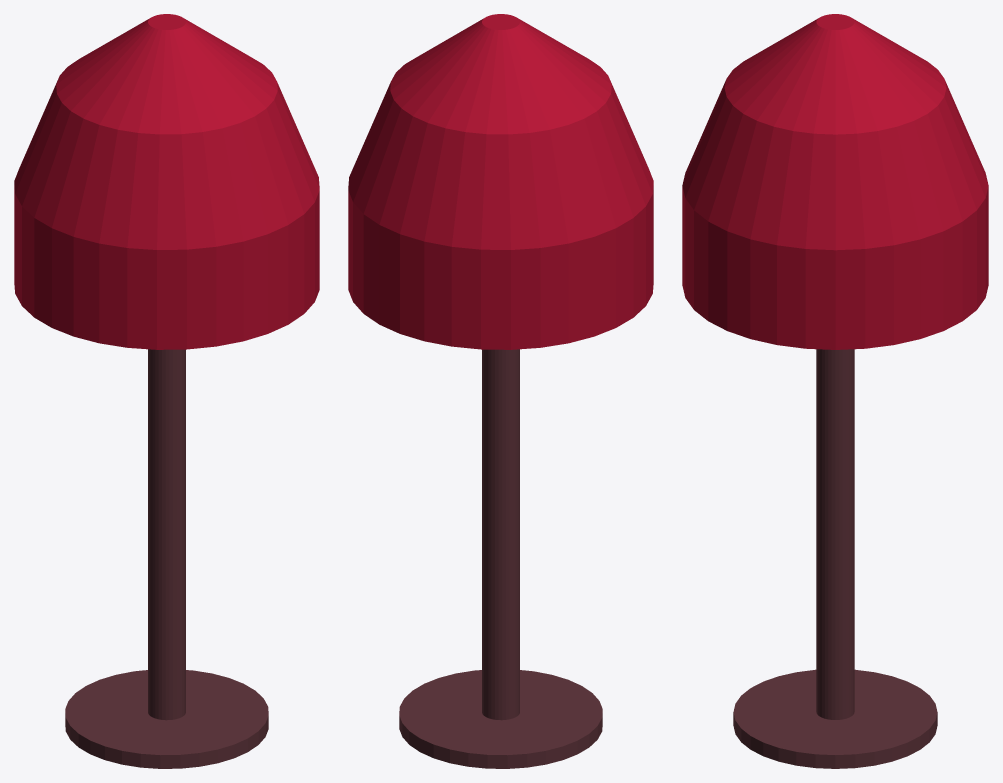
File: Lamp.fbx
3 views of the same model, side by side, from view 1: azimuth 30°, elevation 25°; view 2: azimuth 150°, elevation 25°; view 3: azimuth 270°, elevation 25° (orthographic).
Visible parts, largest first — view 1: Lamp; view 2: Lamp; view 3: Lamp.
Boxes of the visible parts, x1,y1,x2,y2 form: Lamp: (14, 14, 319, 768); Lamp: (348, 14, 653, 768); Lamp: (682, 14, 988, 768).
Size of the model in its own units: 1.6 by 4.06 by 1.6.
